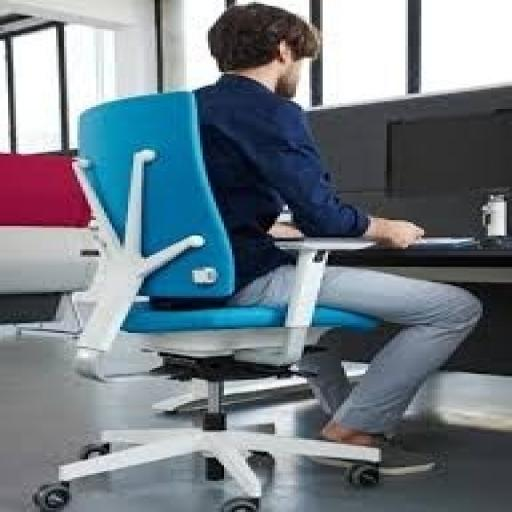sitting: (187, 0, 485, 477)
